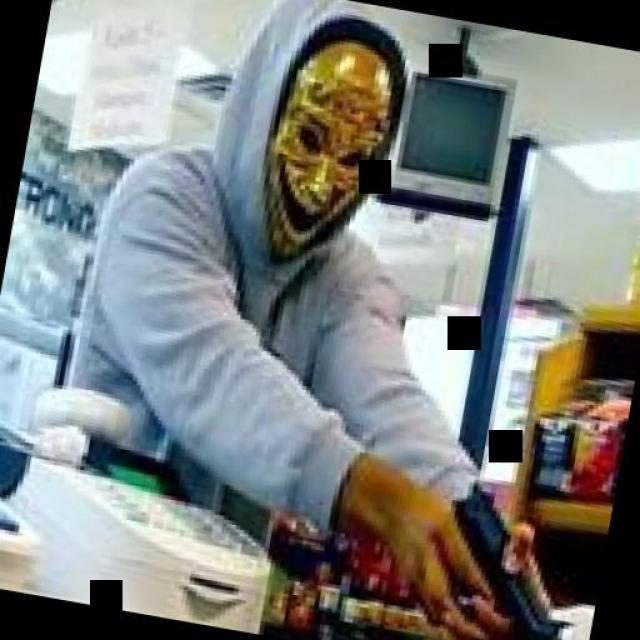gun: (390, 469, 585, 640)
